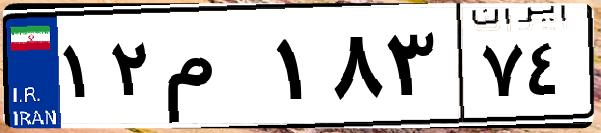1: (270, 28, 330, 110), (57, 26, 110, 100)
2: (110, 28, 158, 98)
3: (385, 28, 445, 110)
4: (525, 38, 570, 115)
7: (475, 38, 525, 113)
8: (330, 28, 385, 110)
م: (158, 20, 270, 120)
